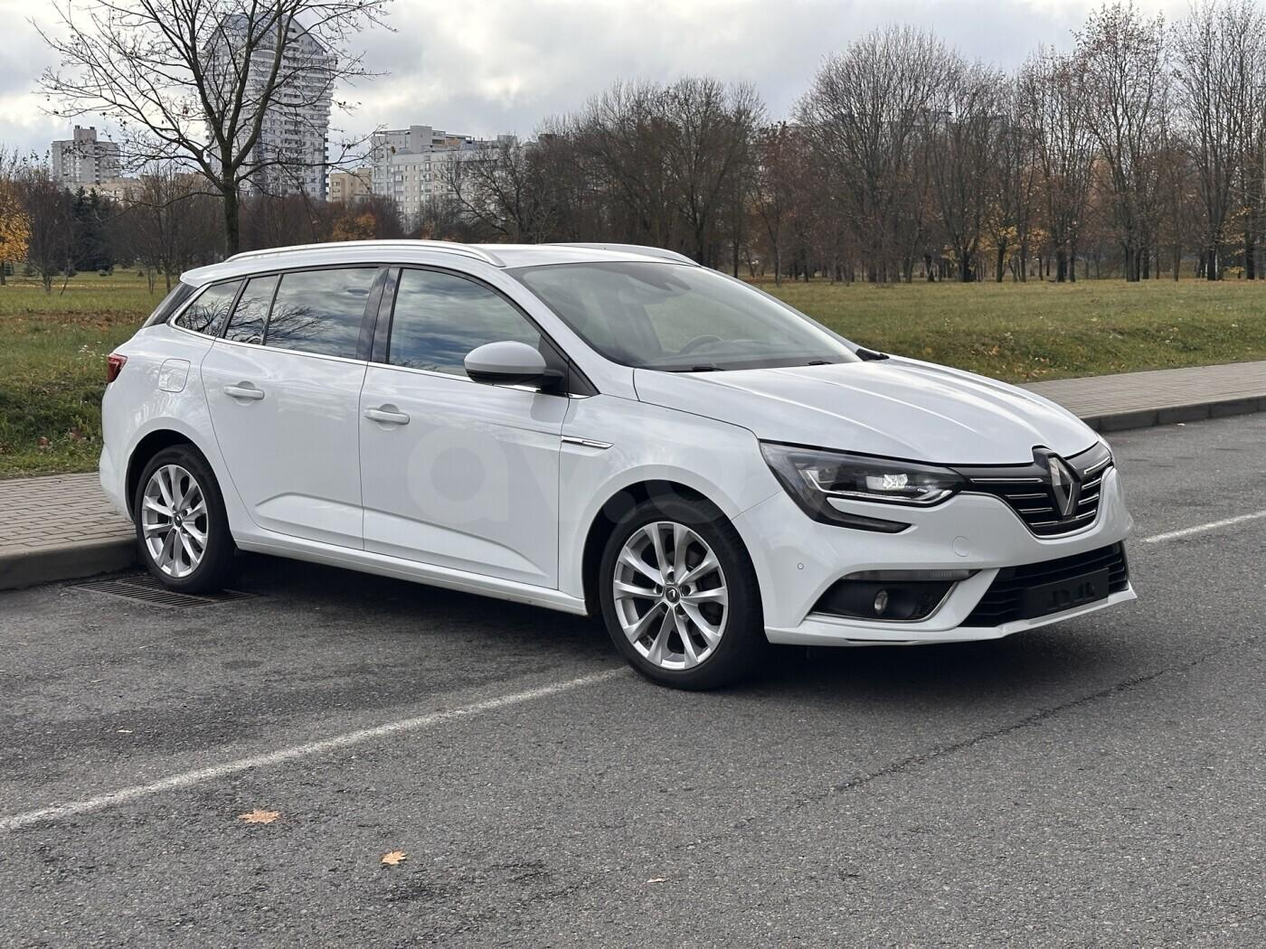Megane_2016-2020: (90, 236, 1137, 687)
